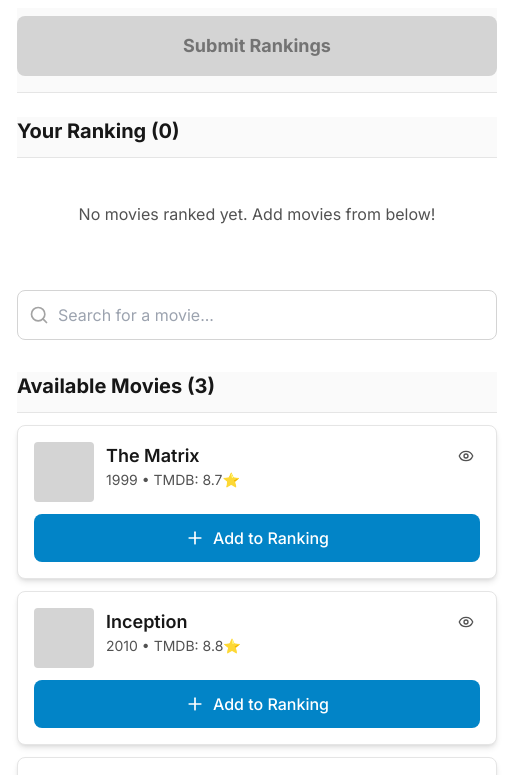
Test case: VotingInterface › should add movie to ranking when clicked
Note: Click add button for The Matrix
Click the button "Add to Ranking" below "1999".
click(257, 538)  # box [34, 514, 480, 562]
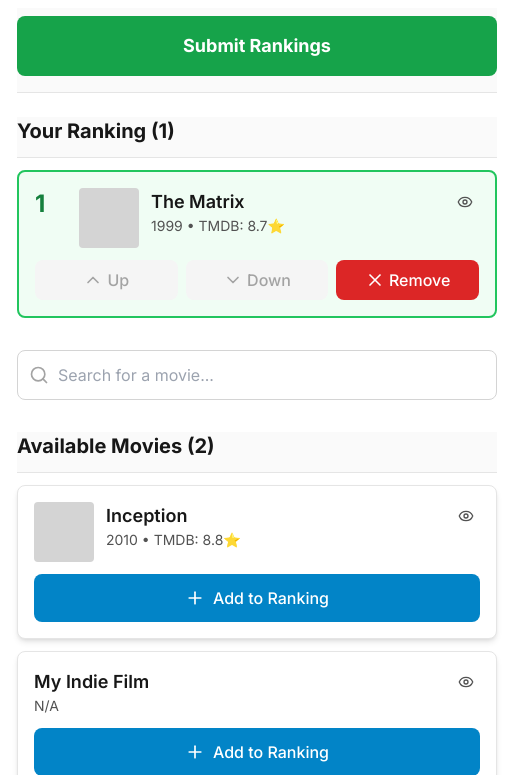
Expected: the heading "Your Ranking (1)" is shown, [17, 119, 175, 143]
Expected: the heading "Available Movies (2)" is shown, [17, 434, 215, 458]
